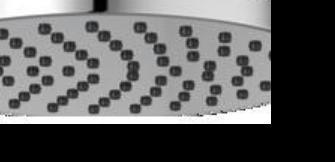Ducha: (0, 0, 326, 120)
